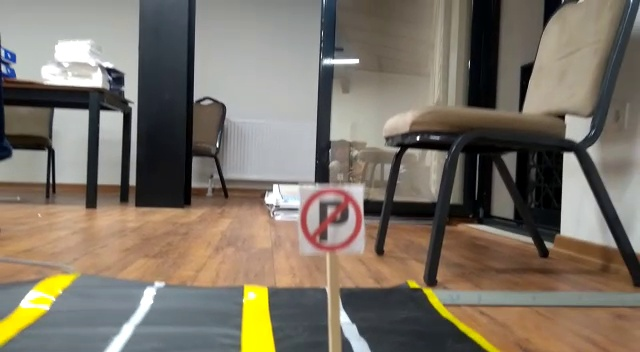park_yapilmaz: (302, 185, 362, 251)
